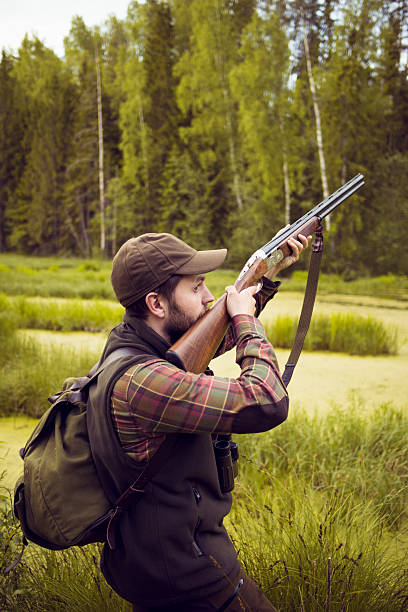shotgun: (208, 170, 368, 376)
